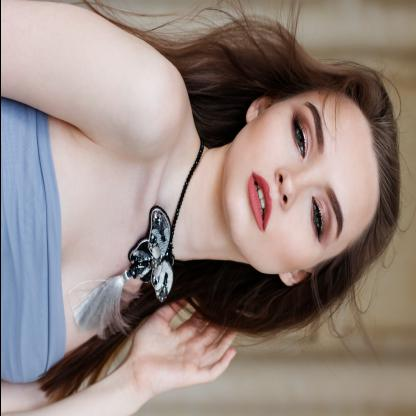Eye: (291, 112, 309, 160), (310, 196, 326, 243)
Mouth: (247, 172, 271, 232)
Nose: (274, 166, 310, 210)
